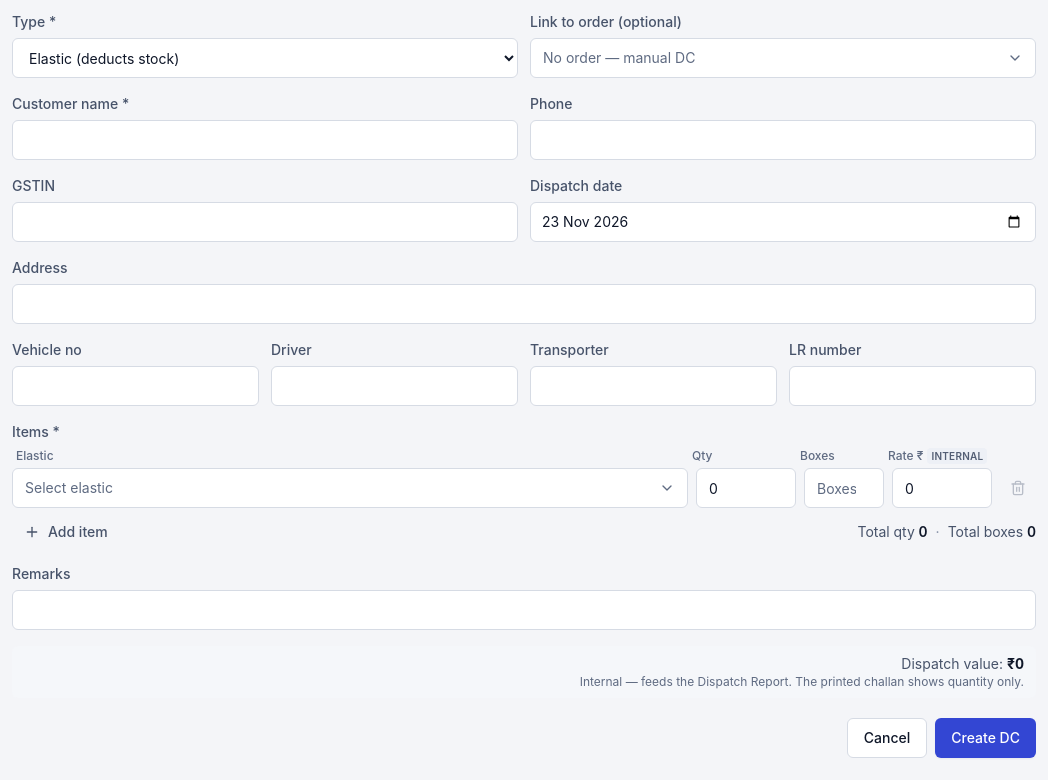
Test case: the create form › refuses part of a box
Type "Ravi Textiles" into the field labelled "Customer name *" at {"x": 265, "y": 140}, box [12,120,518,160]
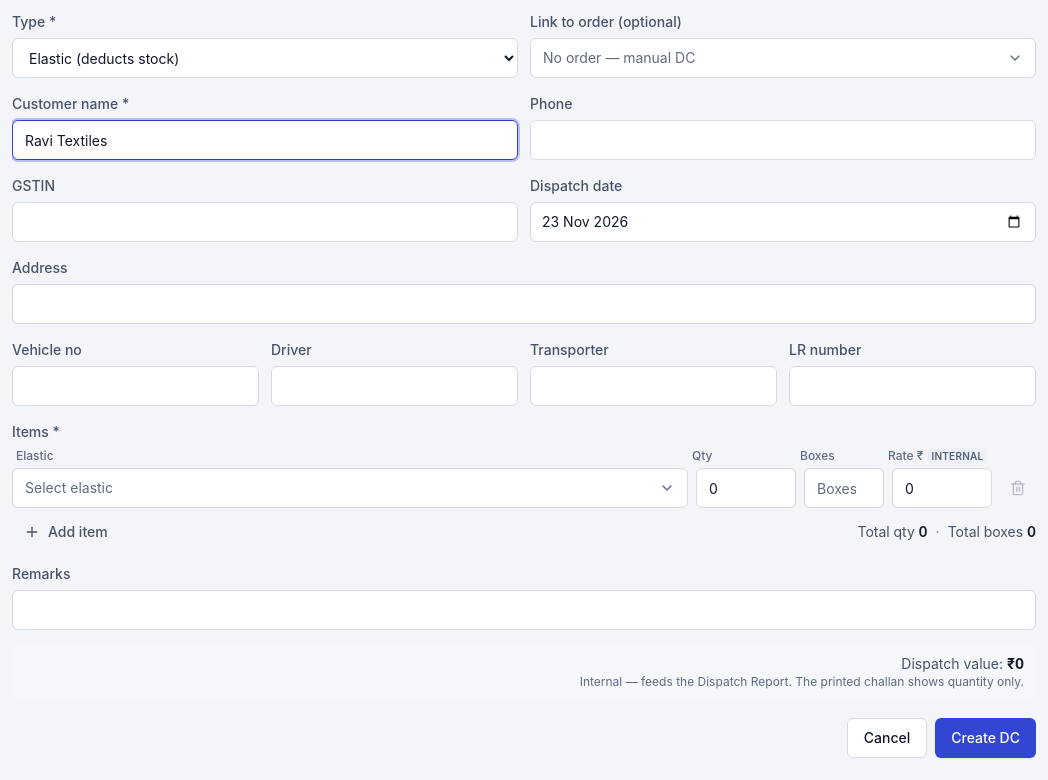
Click the button labelled "Select elastic" at {"x": 69, "y": 488}, box [12,468,688,508]
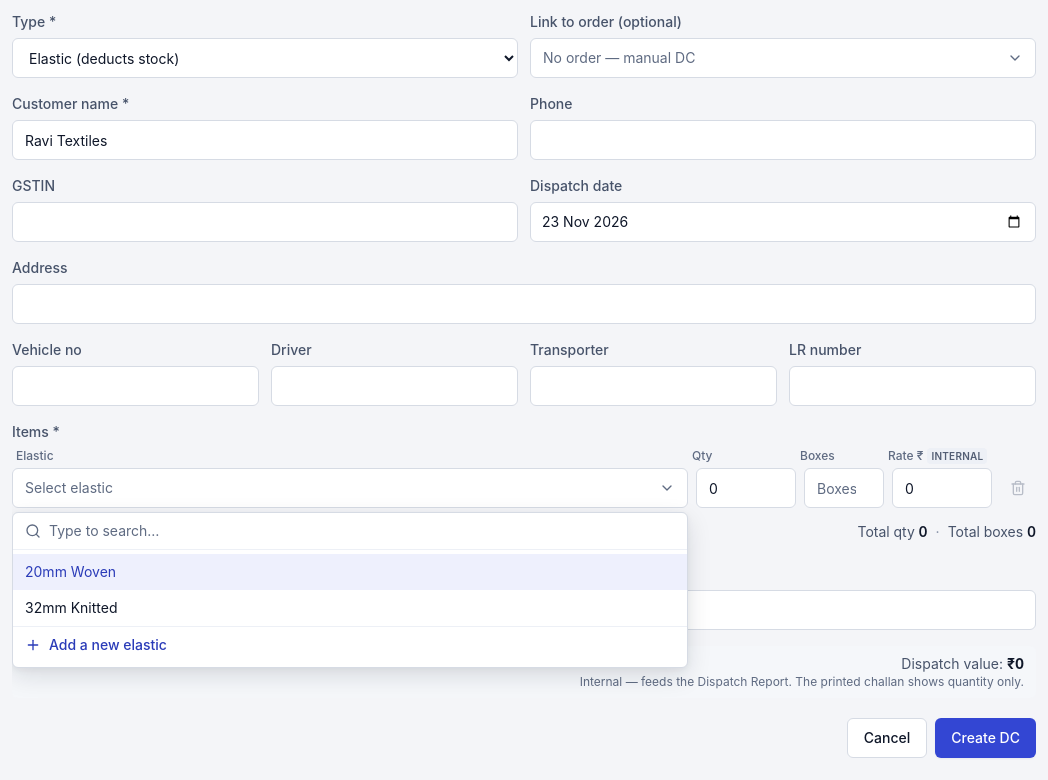
Click the option "20mm Woven" at {"x": 71, "y": 572}, box [13,554,687,590]
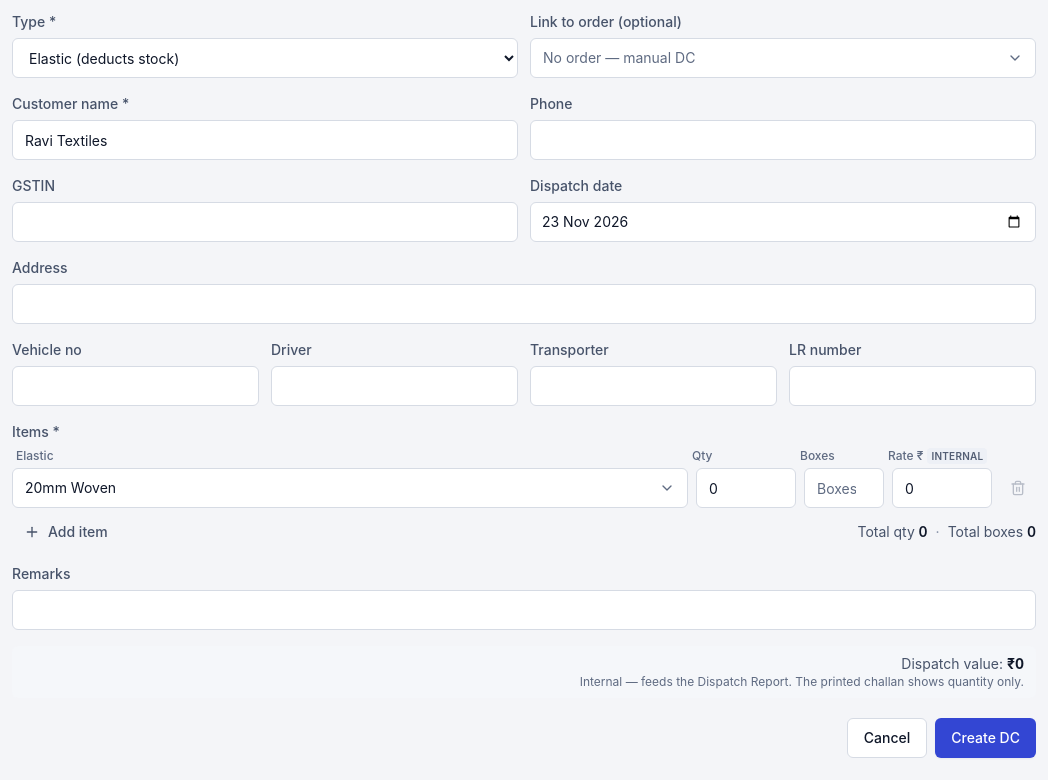
Type "400" into the number field named "quantity" at {"x": 746, "y": 488}, box [696,468,796,508]
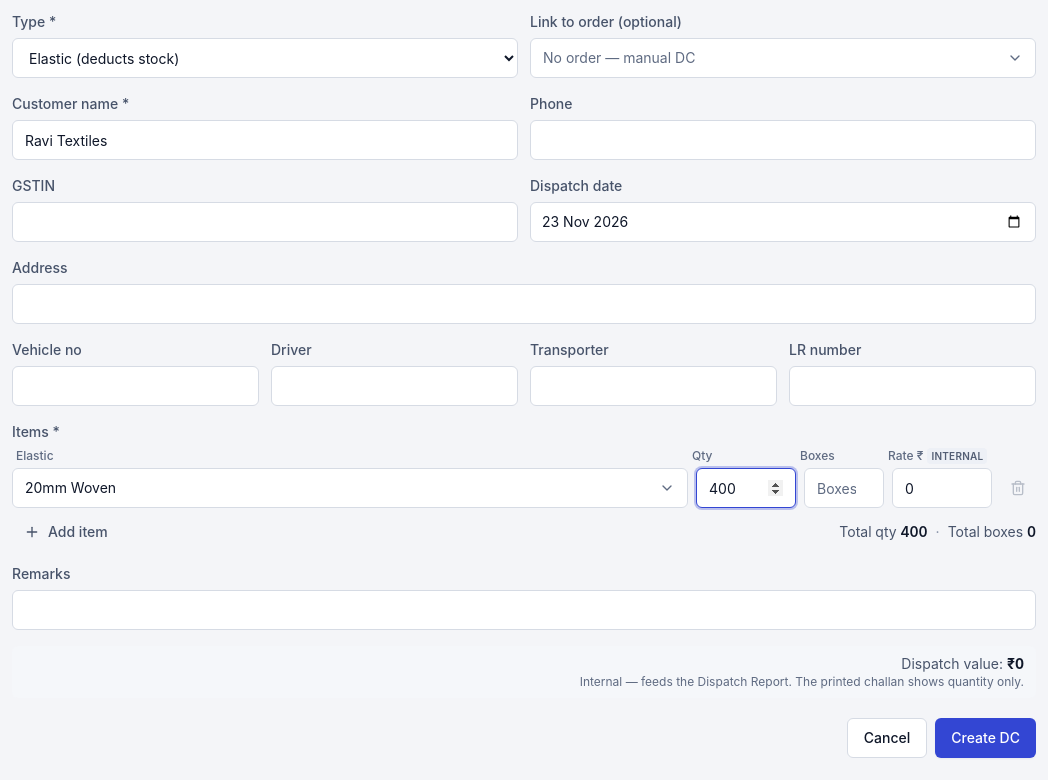
Type "2.5" into the number field labelled "Boxes" at {"x": 844, "y": 488}, box [804,468,884,508]
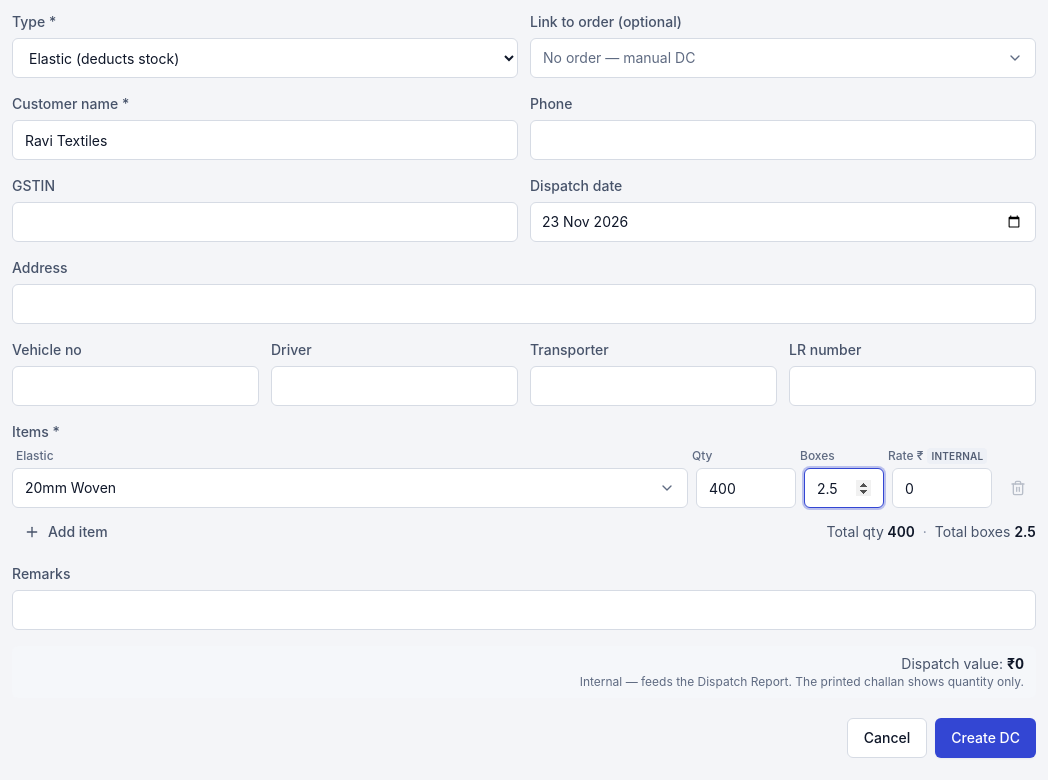
Click the button "Create DC" at {"x": 986, "y": 738}, box [935,718,1036,758]
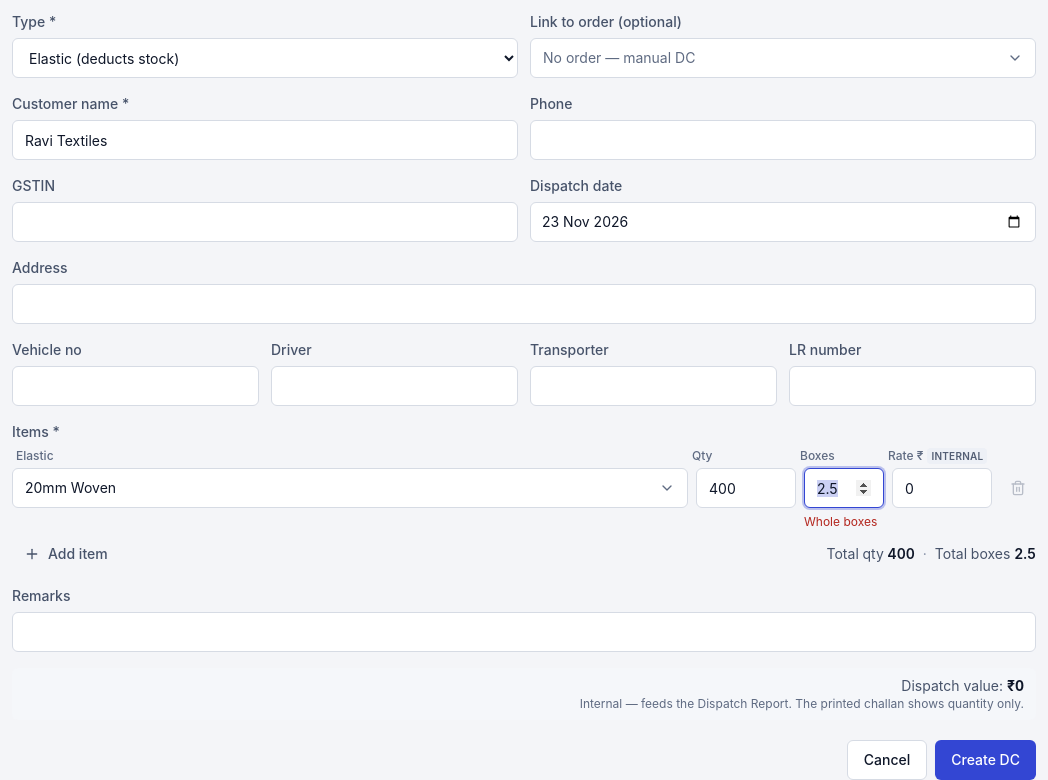
Expected: the text "Whole boxes" is shown, [804,514,884,530]
